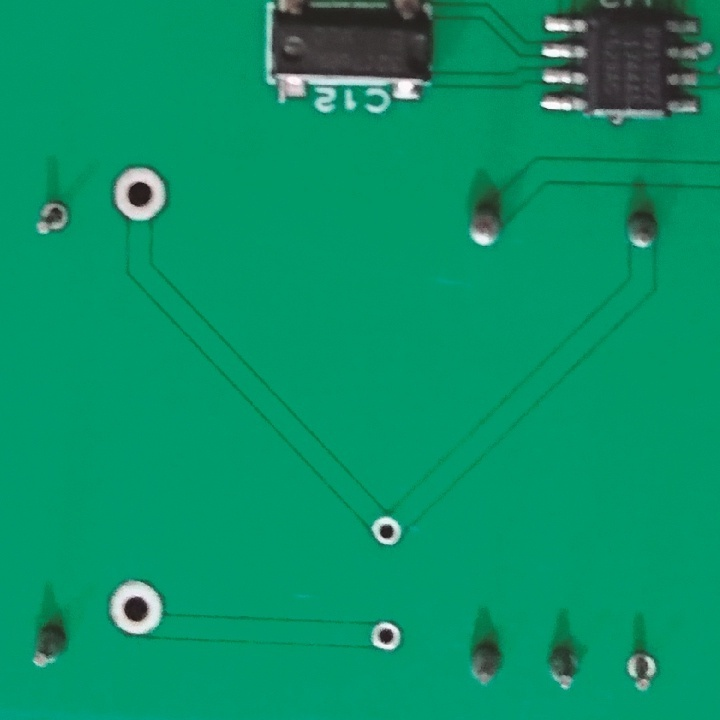F: (104, 576, 167, 641), (109, 162, 172, 225), (32, 195, 72, 240), (626, 647, 661, 695), (367, 614, 404, 656), (367, 512, 404, 552)
